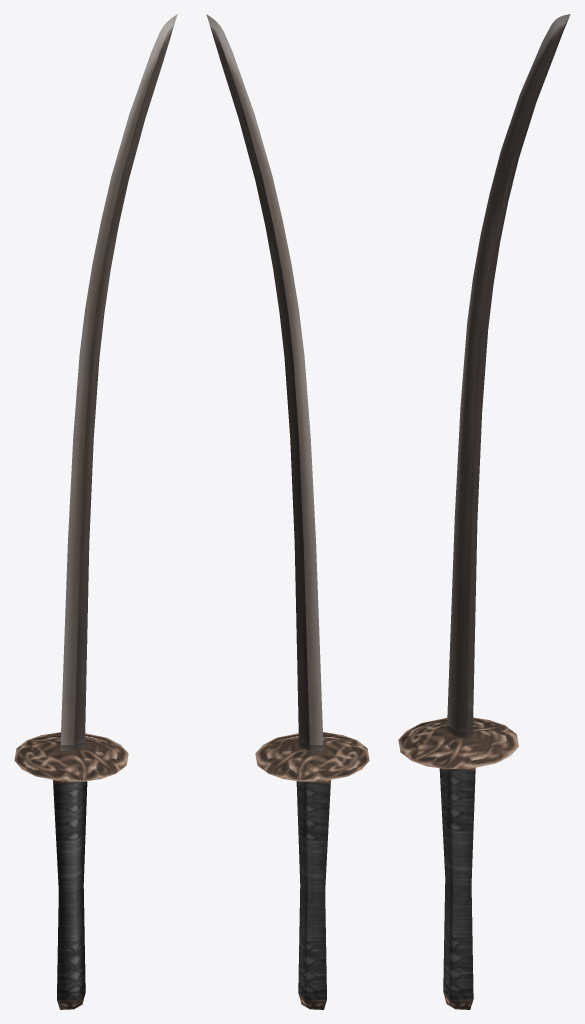
File: yu_sword.glb
3 views of the same model, side by side, from view 1: azimuth 30°, elevation 25°; view 2: azimuth 150°, elevation 25°; view 3: azimuth 330°, elevation 25° (orthographic). The views are drawn at different scales.
Parts seen in each view (by area): view 1: sword_0_Part, sword_1_Part; view 2: sword_0_Part, sword_1_Part; view 3: sword_0_Part, sword_1_Part.
Part boxes in pixels (x1,y1,x2,y2): sword_0_Part: (53, 26, 173, 1009); sword_1_Part: (14, 14, 177, 781); sword_0_Part: (210, 26, 330, 1009); sword_1_Part: (206, 14, 369, 781); sword_0_Part: (439, 17, 569, 1009); sword_1_Part: (398, 14, 570, 769).
Size of the model in its own units: 0.3019 by 1.79 by 0.2011.
2 materials, 2 textured.
